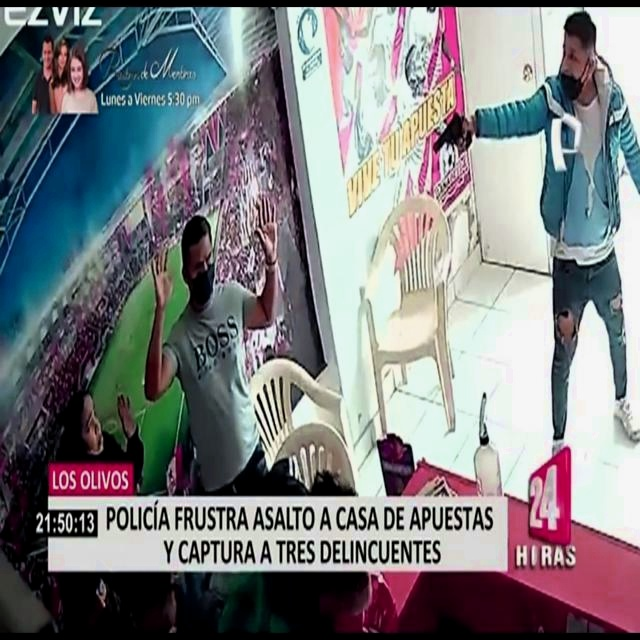gun: (425, 97, 481, 174)
